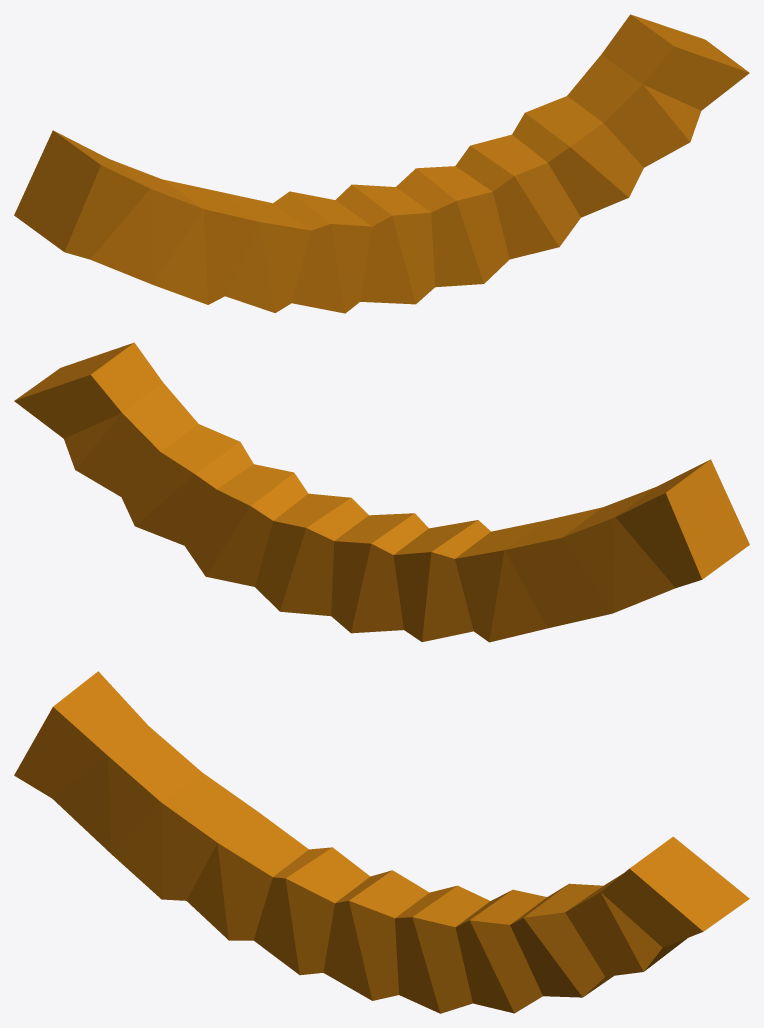
Rendered from canesfry-simp4.obj.
The picture shows the model from 3 angles, top to bottom: view 1: azimuth 30°, elevation 25°; view 2: azimuth 150°, elevation 25°; view 3: azimuth 330°, elevation 25°; orthographic projection.
Parts seen in each view (by area): view 1: Cube; view 2: Cube; view 3: Cube.
Boxes of the visible parts, left/top/right/bottom form: Cube: left=14, top=14, right=749, bottom=313; Cube: left=14, top=342, right=749, bottom=642; Cube: left=14, top=671, right=749, bottom=1013.
Bounding box in the file's own units: 4.45 × 1.35 × 0.5478.
